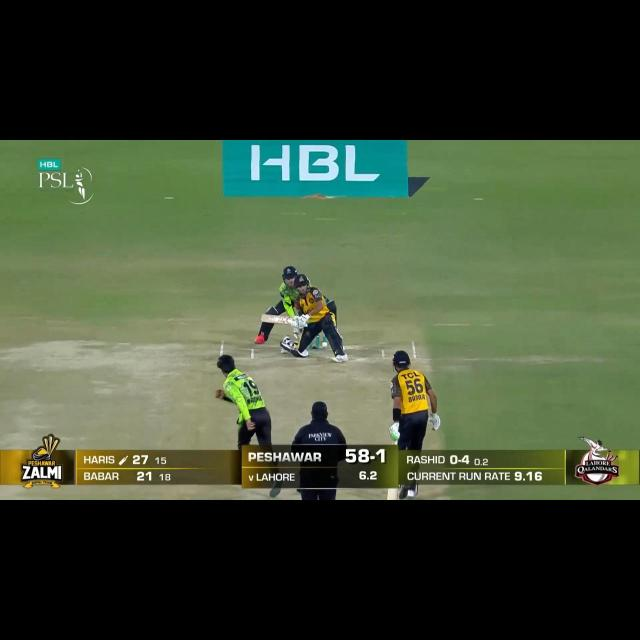bat: (258, 310, 293, 328), (388, 487, 399, 500)
toe: (260, 311, 270, 324), (387, 496, 397, 501)
